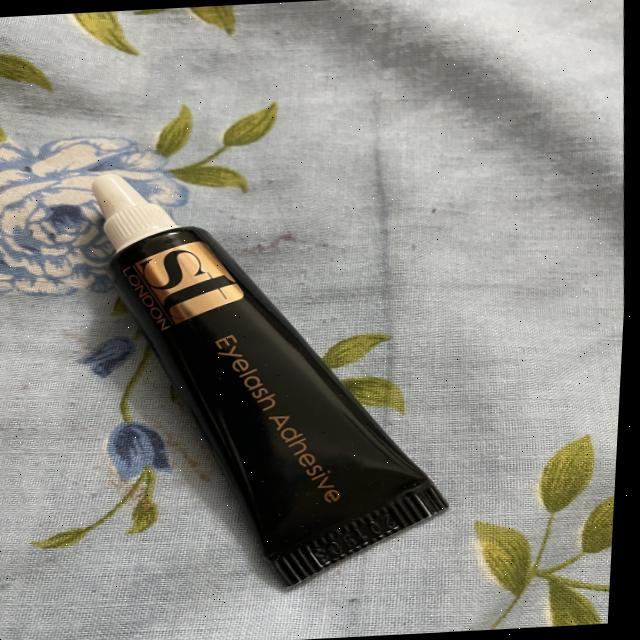gel: (30, 126, 503, 612)
